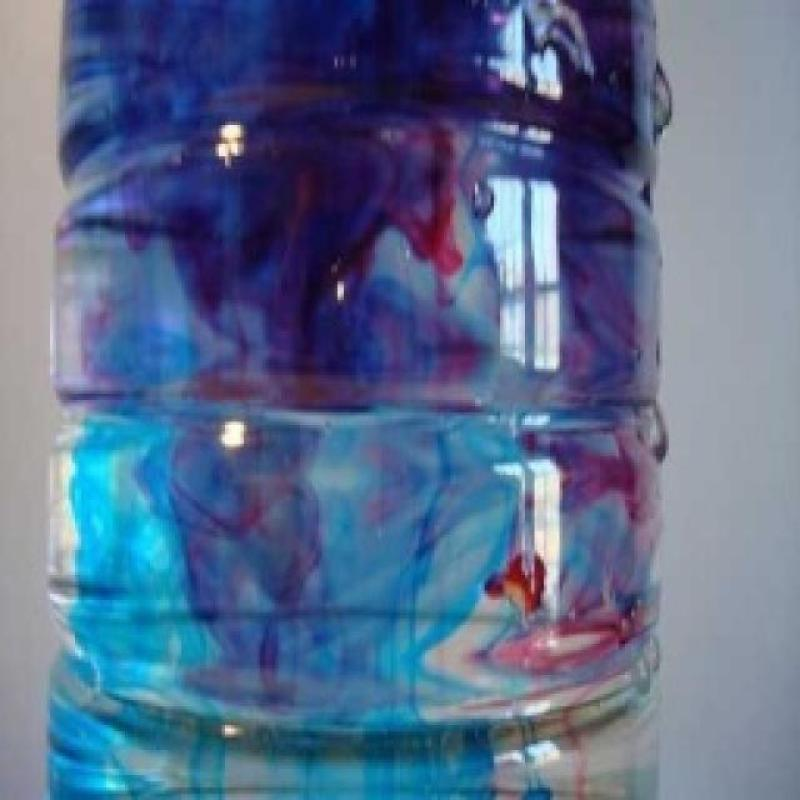botella: (43, 0, 672, 800)
